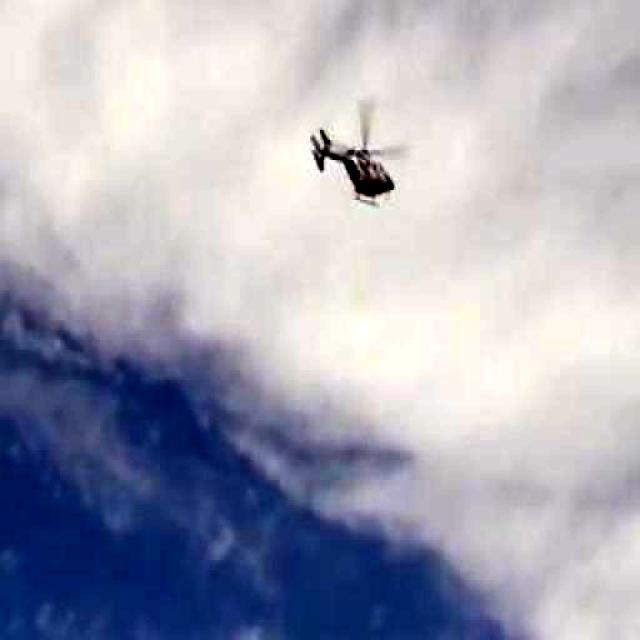drone: (288, 69, 431, 245)
